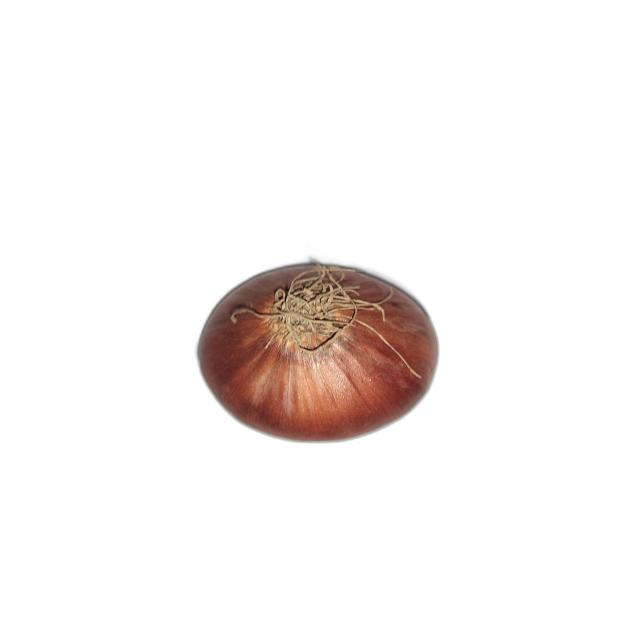onion: (196, 258, 440, 443)
